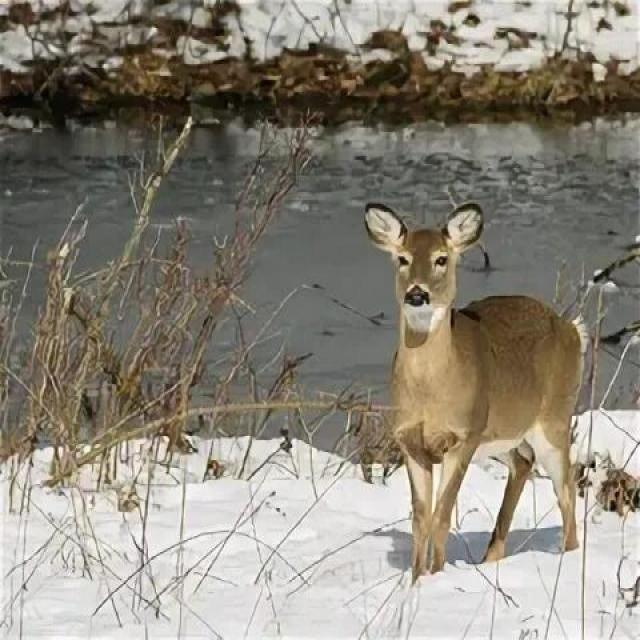deer: (310, 175, 634, 524)
